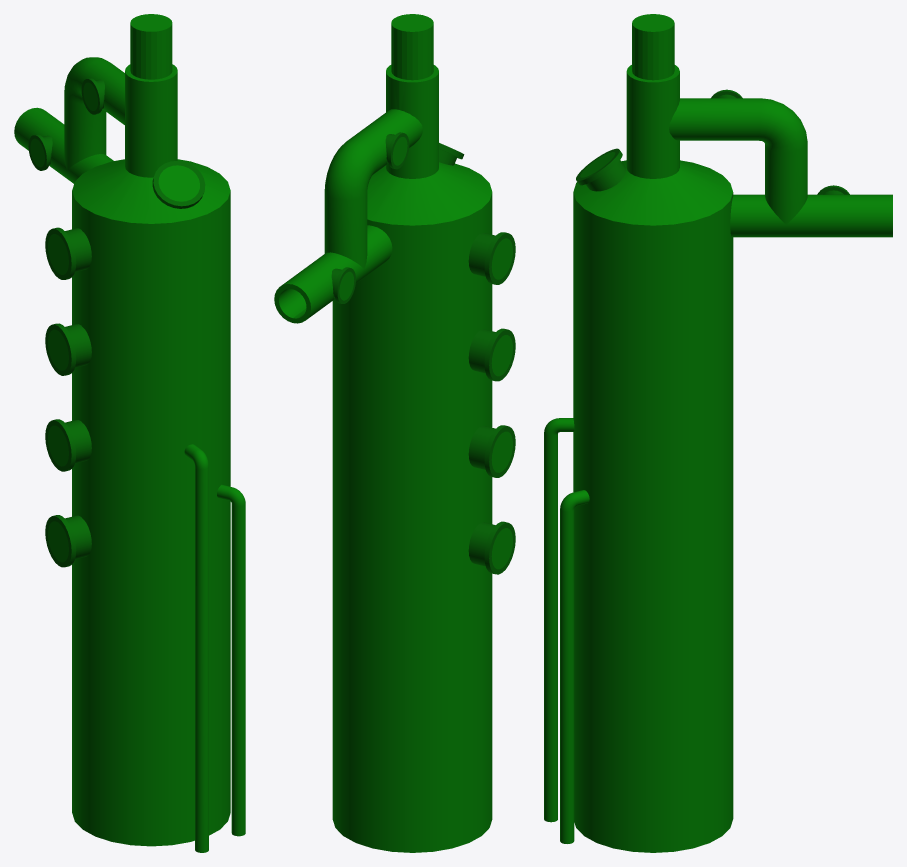
The model's file is 喷淋塔.glb.
3 views of the same model, side by side, from view 1: azimuth 30°, elevation 25°; view 2: azimuth 150°, elevation 25°; view 3: azimuth 270°, elevation 25° (orthographic).
Parts seen in each view (by area): view 1: root; view 2: root; view 3: root.
Boxes of the visible parts, x1,y1,x2,y2 form: root: [14, 14, 245, 852]; root: [274, 14, 515, 852]; root: [544, 14, 892, 852].
Size of the model in its own units: 3.49 by 16.5 by 6.55.
